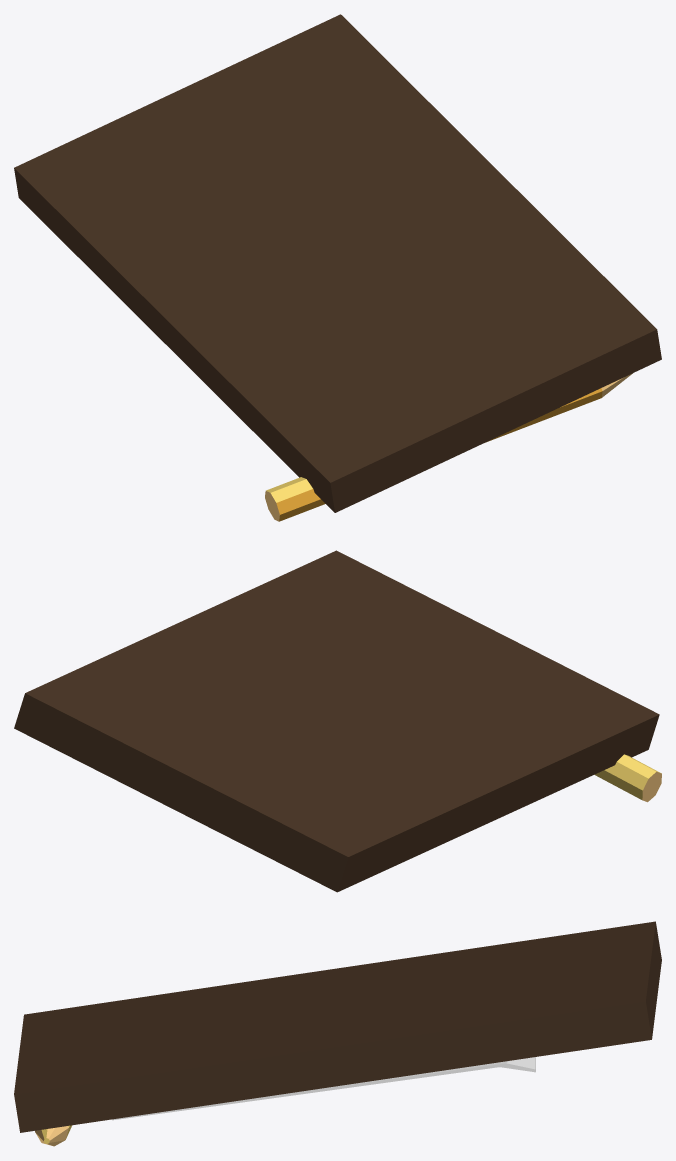
Rendered from _ClipBoard.fbx.
3 views of the same model, one above another, from view 1: azimuth 30°, elevation 25°; view 2: azimuth 150°, elevation 25°; view 3: azimuth 270°, elevation 25° (orthographic).
Parts seen in each view (by area): view 1: _Clipboard; view 2: _Clipboard; view 3: _Clipboard.
Boxes of the visible parts, <box> form: _Clipboard: <box>14,14,661,521</box>; _Clipboard: <box>14,550,661,892</box>; _Clipboard: <box>14,921,661,1146</box>.
Bounding box in the file's own units: 31.27 × 18.65 × 48.22.
